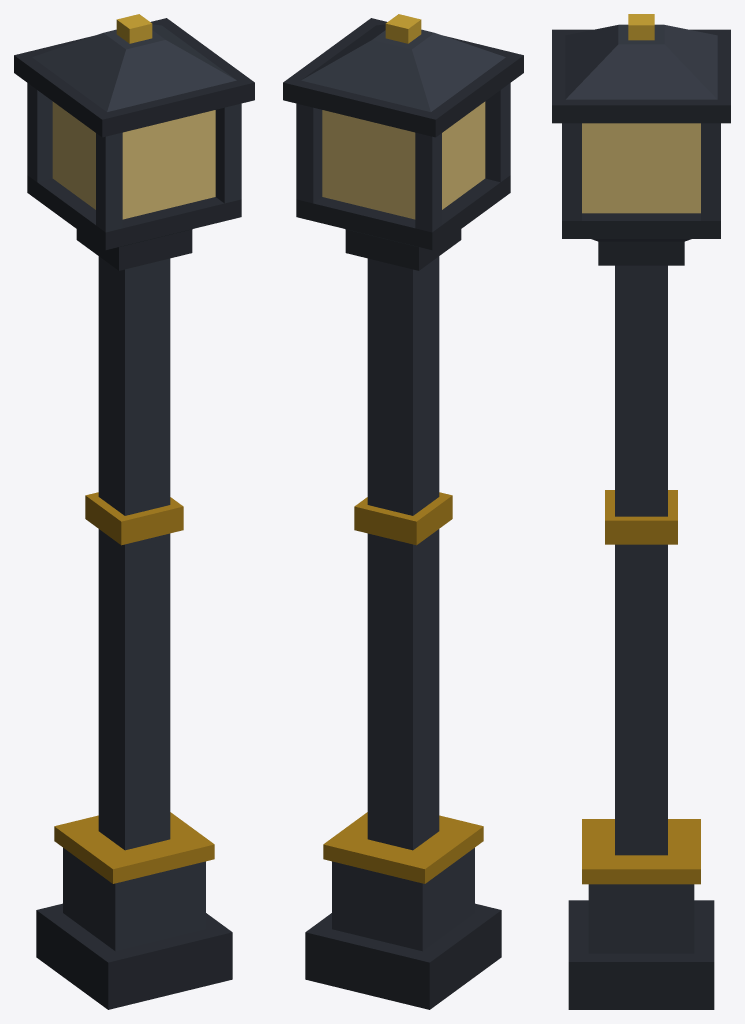
Rendered from lamp_post.glb.
3 renders of one model, left to right at view 1: azimuth 30°, elevation 25°; view 2: azimuth 150°, elevation 25°; view 3: azimuth 270°, elevation 25°, orthographic.
Parts seen in each view (by area): view 1: lamp_post, Glow; view 2: lamp_post, Glow; view 3: lamp_post, Glow.
Boxes of the visible parts, x1=… form: lamp_post: x1=14, y1=14, x2=254, y2=1009; Glow: x1=52, y1=101, x2=215, y2=219; lamp_post: x1=283, y1=14, x2=523, y2=1009; Glow: x1=322, y1=101, x2=485, y2=219; lamp_post: x1=552, y1=14, x2=730, y2=1009; Glow: x1=582, y1=123, x2=700, y2=213.
Bounding box in the file's own units: 0.54 × 3.2 × 0.54.
